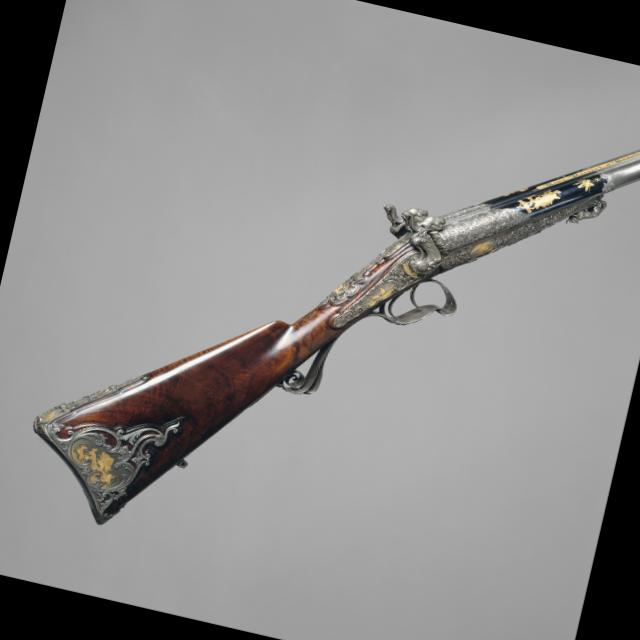Weapon: (17, 0, 640, 640)
